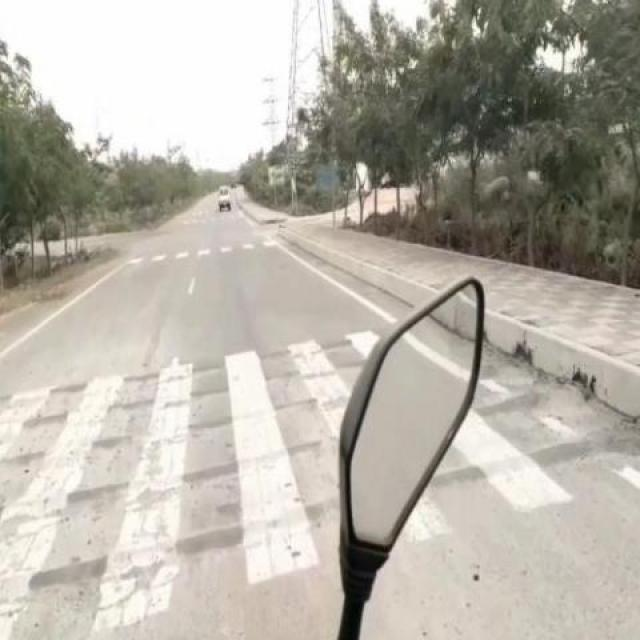Speed Bump: (0, 490, 340, 624), (0, 432, 339, 531), (0, 312, 345, 392), (0, 382, 339, 460), (0, 365, 335, 408), (457, 427, 612, 477), (472, 384, 544, 416)
